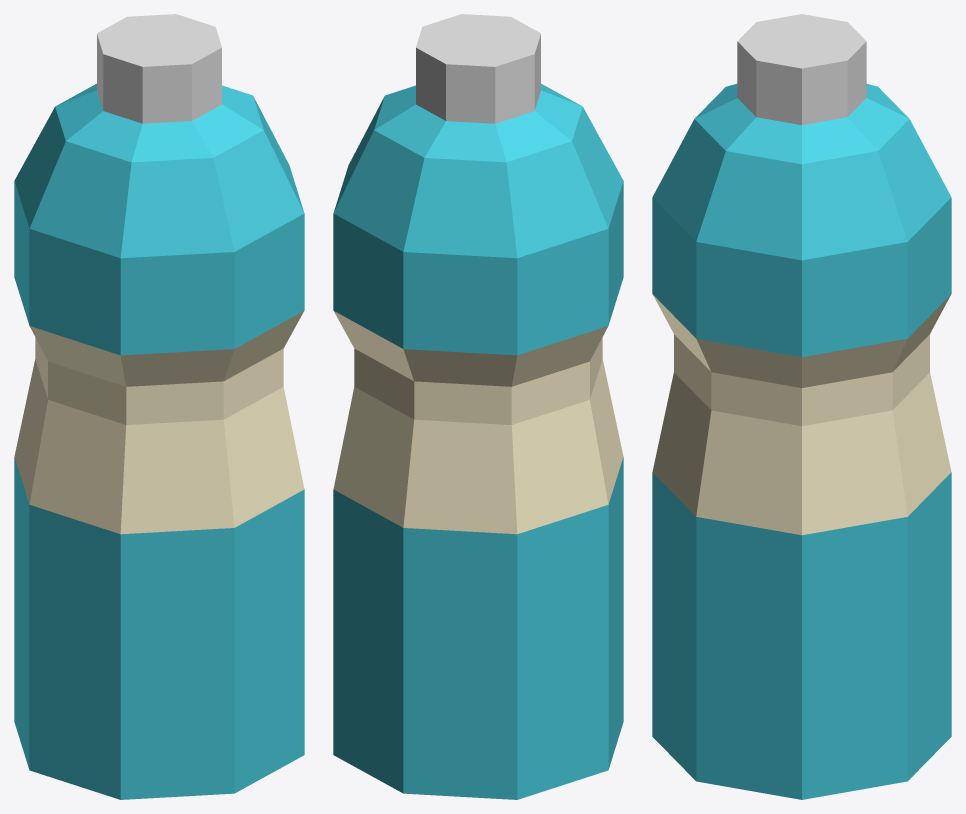
Rendered from Water_Bottle.fbx.
The picture shows the model from 3 angles, left to right: view 1: azimuth 30°, elevation 25°; view 2: azimuth 150°, elevation 25°; view 3: azimuth 270°, elevation 25°; orthographic projection.
Visible parts, largest first — view 1: Cylinder.017; view 2: Cylinder.017; view 3: Cylinder.017.
Part boxes in pixels (bbox=[...]): Cylinder.017: bbox=[14, 14, 304, 799]; Cylinder.017: bbox=[333, 14, 623, 799]; Cylinder.017: bbox=[652, 14, 951, 799].
Size of the model in its own units: 30.09 by 77.21 by 30.09.
